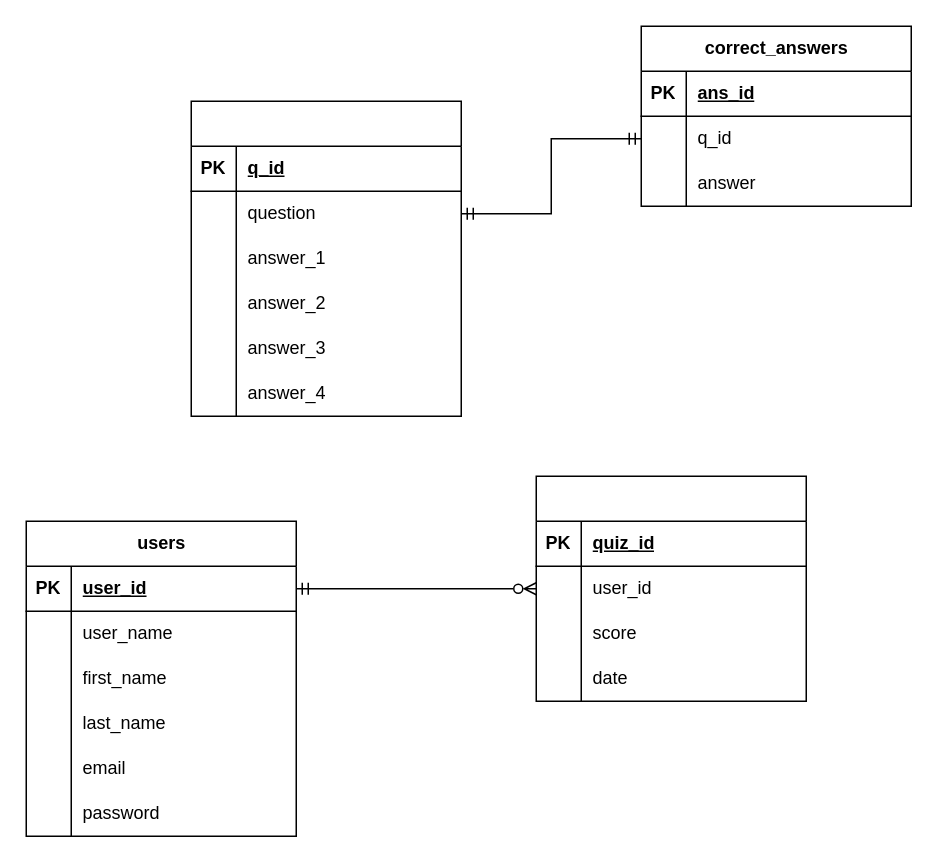
The diagram is 938 pixels wide and 863 high, and some of its shapes have lost their labels. The box of each missing label's shape, as (x1, y1, x2, y2) in pixels:
questions: (190, 100, 461, 416)
quiz_results: (535, 475, 806, 701)
